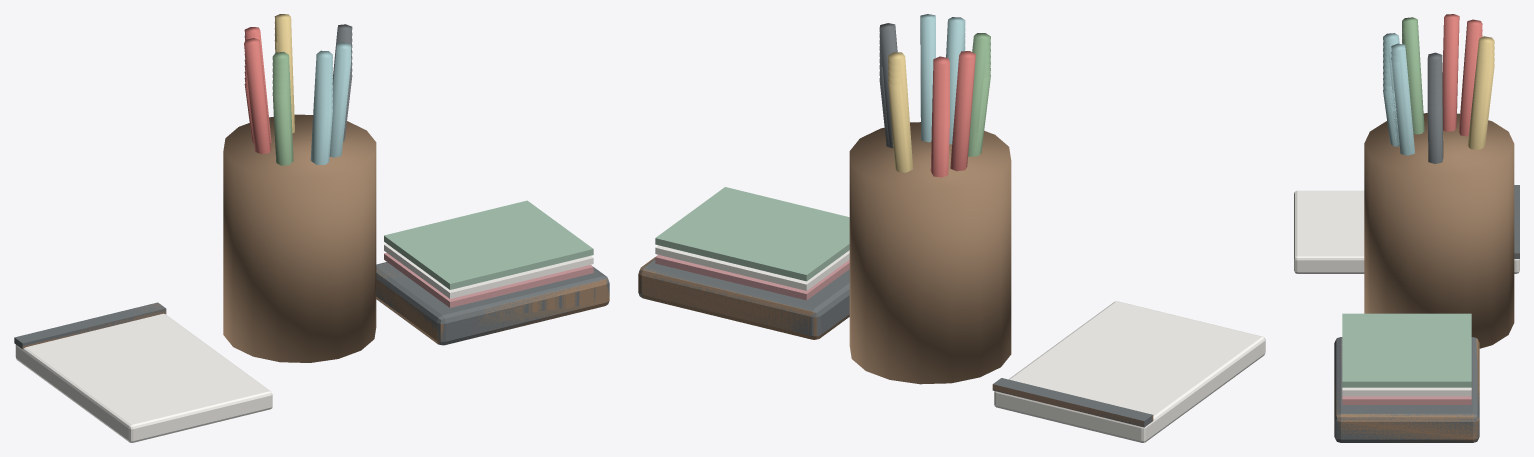
The model's file is Gear05.fbx.
3 renders of one model, left to right at view 1: azimuth 30°, elevation 25°; view 2: azimuth 150°, elevation 25°; view 3: azimuth 270°, elevation 25°, orthographic. The views are drawn at different scales.
Visible parts, largest first — view 1: Gear05_V10_Walnut, Gear05_V10_Paper, Gear05_V10_Sage, Gear05_V6_Charcoal, Gear05_V8_Charcoal, Gear05_V10_Crimson, Gear05_V10_Rose, Gear05_V9_Blue, Gear05_V4_Leaf, Gear05_V8_Blue, Gear05_V10_Brass, Gear05_V4_Charcoal (+1 smaller); view 2: Gear05_V10_Walnut, Gear05_V10_Paper, Gear05_V10_Sage, Gear05_V8_Charcoal, Gear05_V10_Blue, Gear05_V10_Crimson, Gear05_V10_Rose, Gear05_V4_Charcoal, Gear05_V6_Brass, Gear05_V10_Leaf, Gear05_V10_Leather, Gear05_V10_Charcoal (+5 smaller); view 3: Gear05_V10_Walnut, Gear05_V10_Sage, Gear05_V10_Paper, Gear05_V7_Charcoal, Gear05_V10_Crimson, Gear05_V8_Charcoal, Gear05_V10_Leaf, Gear05_V10_Blue, Gear05_V10_Rose, Gear05_V8_Blue, Gear05_V2_Charcoal, Gear05_V6_Charcoal (+10 smaller).
Boxes of the visible parts, box(x1,y1,x2,y2) form: Gear05_V10_Walnut: box(223, 114, 609, 362); Gear05_V10_Paper: box(15, 244, 593, 442); Gear05_V10_Sage: box(384, 200, 593, 289); Gear05_V6_Charcoal: box(15, 51, 608, 345); Gear05_V8_Charcoal: box(351, 39, 609, 343); Gear05_V10_Crimson: box(244, 27, 271, 154); Gear05_V10_Rose: box(384, 253, 593, 307); Gear05_V9_Blue: box(311, 52, 351, 161); Gear05_V4_Leaf: box(272, 92, 289, 165); Gear05_V8_Blue: box(312, 58, 351, 161); Gear05_V10_Brass: box(274, 14, 294, 133); Gear05_V4_Charcoal: box(22, 63, 352, 346); Gear05_V10_Walnut: box(638, 122, 1011, 384); Gear05_V10_Paper: box(655, 245, 1265, 442); Gear05_V10_Sage: box(655, 187, 849, 281); Gear05_V8_Charcoal: box(642, 40, 882, 336); Gear05_V10_Blue: box(920, 14, 965, 144); Gear05_V10_Crimson: box(930, 51, 975, 172); Gear05_V10_Rose: box(655, 255, 849, 300); Gear05_V4_Charcoal: box(879, 65, 1151, 420); Gear05_V6_Brass: box(888, 81, 910, 172); Gear05_V10_Leaf: box(968, 33, 990, 156); Gear05_V10_Leather: box(992, 384, 1153, 426); Gear05_V10_Charcoal: box(879, 23, 897, 148); Gear05_V10_Walnut: box(1334, 113, 1514, 442); Gear05_V10_Sage: box(1342, 313, 1471, 387); Gear05_V10_Paper: box(1294, 190, 1519, 396); Gear05_V7_Charcoal: box(1334, 76, 1479, 442); Gear05_V10_Crimson: box(1442, 14, 1482, 136); Gear05_V8_Charcoal: box(1336, 70, 1479, 418); Gear05_V10_Leaf: box(1402, 17, 1424, 134); Gear05_V10_Blue: box(1383, 33, 1414, 154); Gear05_V10_Rose: box(1342, 396, 1471, 404); Gear05_V8_Blue: box(1383, 48, 1410, 155); Gear05_V2_Charcoal: box(1427, 105, 1442, 163); Gear05_V6_Charcoal: box(1334, 81, 1519, 438).
Size of the model in its own units: 35 by 19.65 by 14.
